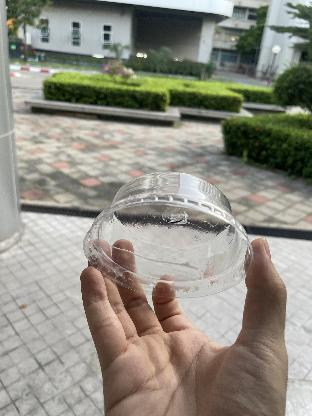Plastic Cup: (81, 168, 256, 300)
